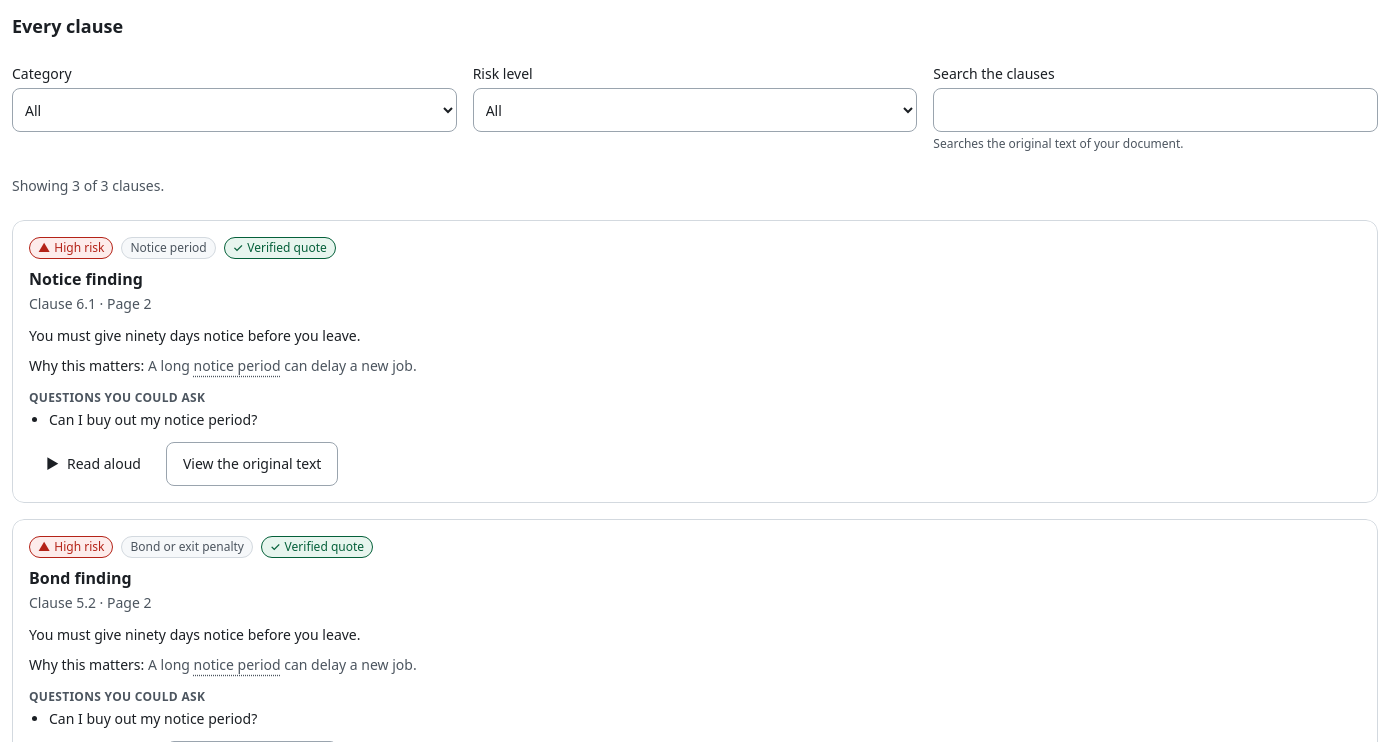
ClauseList › filters by category
Select "Confidentiality" in the dropdown labelled "Category" at (234,110), box [12,88,457,132]
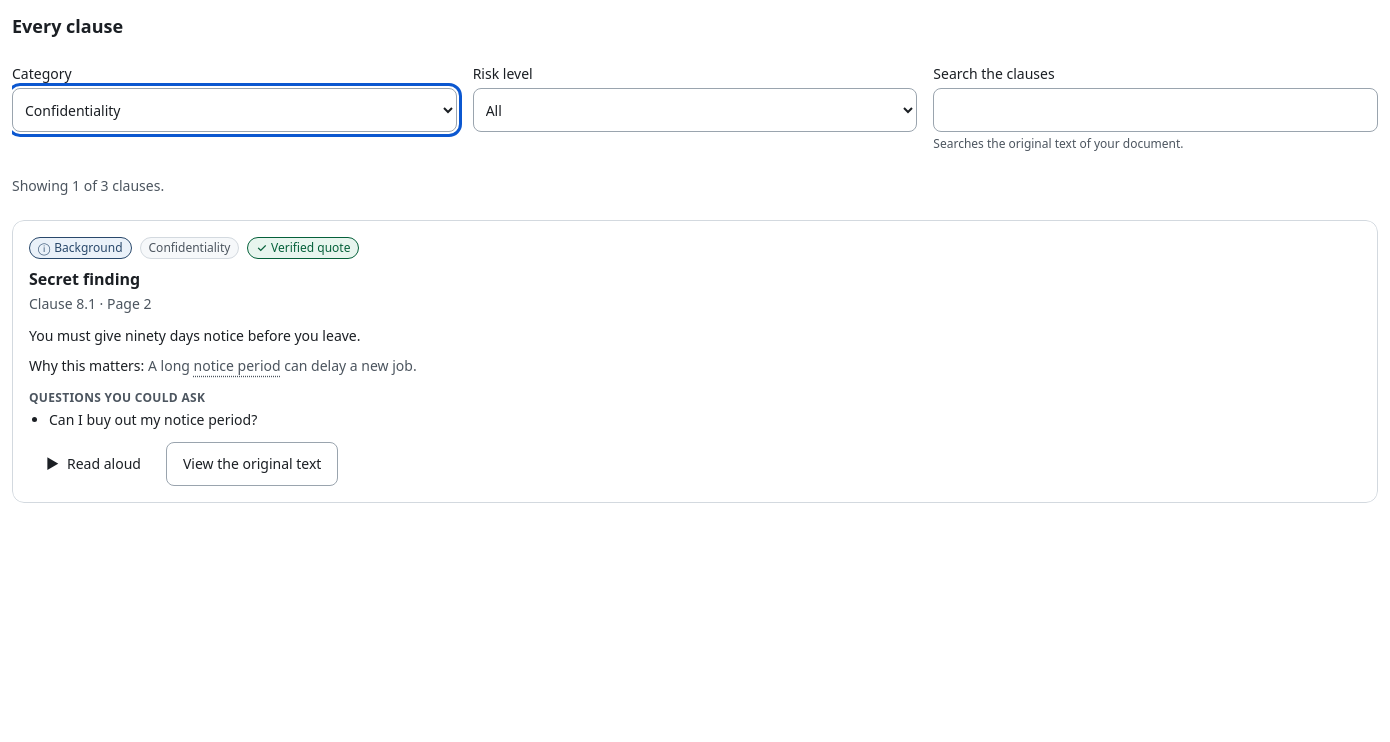
Expected: the heading "Secret finding" is shown, [29,268,140,290]
Now the heading "Bond finding" is gone
Now the text "Showing 1 of 3 clauses." is shown, box [12,176,164,195]
